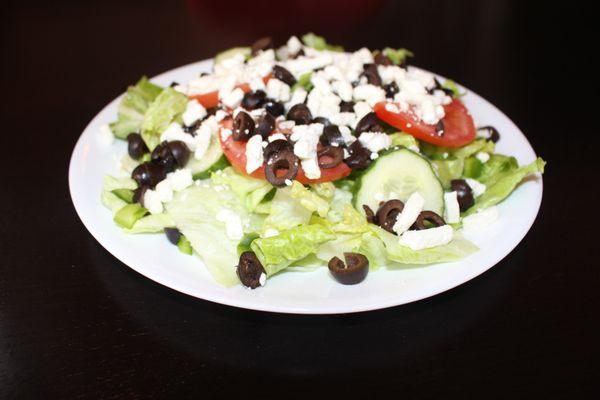curry: (0, 13, 595, 392)
